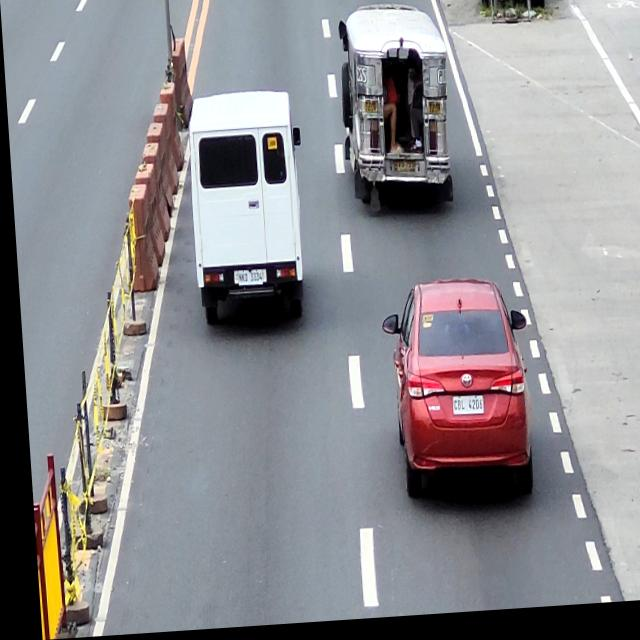Car: (377, 283, 530, 511), (183, 92, 309, 330)
Jeep: (334, 5, 455, 223)
License-Plate: (446, 401, 478, 421), (233, 272, 259, 290), (391, 164, 413, 180)
